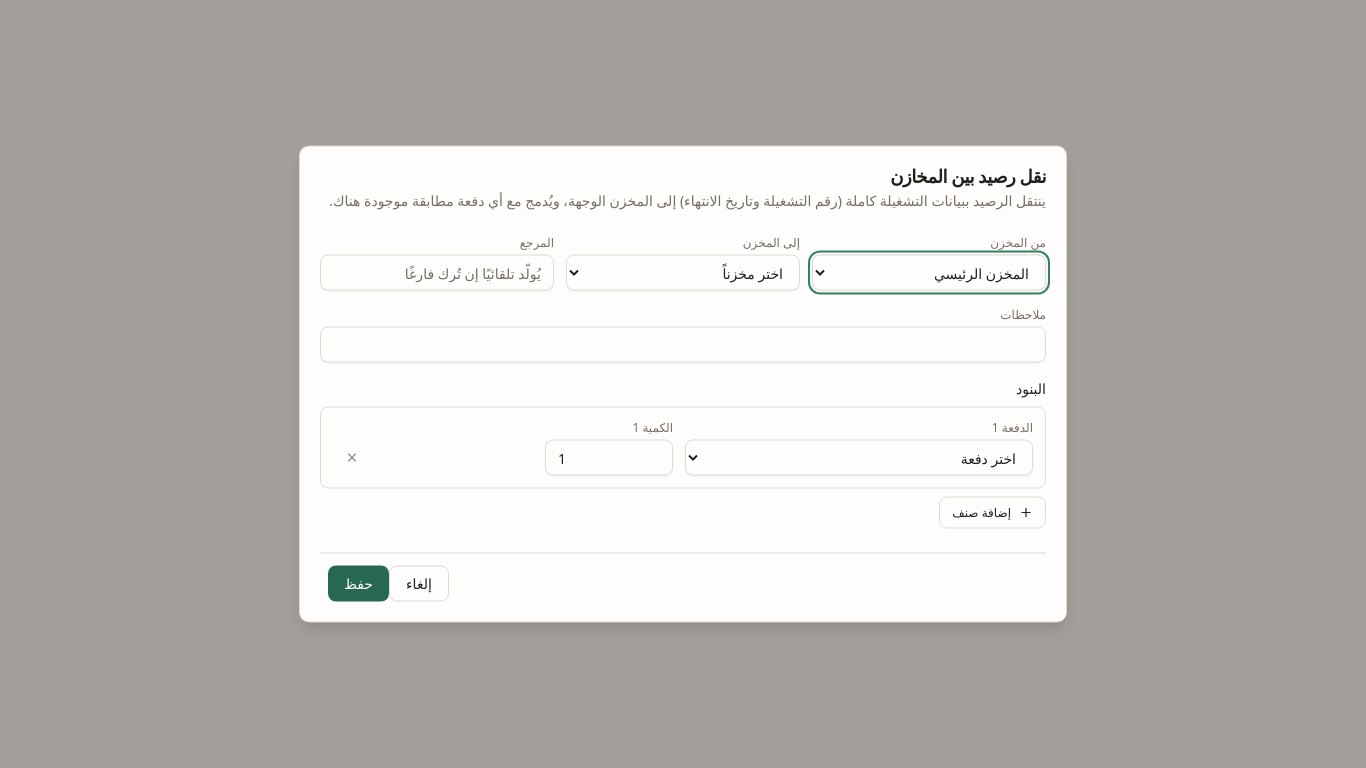
Test: TransferDialog › refuses to submit without a destination warehouse and picked batch
The width and height of the screenshot is (1366, 768).
Click the button "حفظ" at (358, 584), box [328,566,389,602]
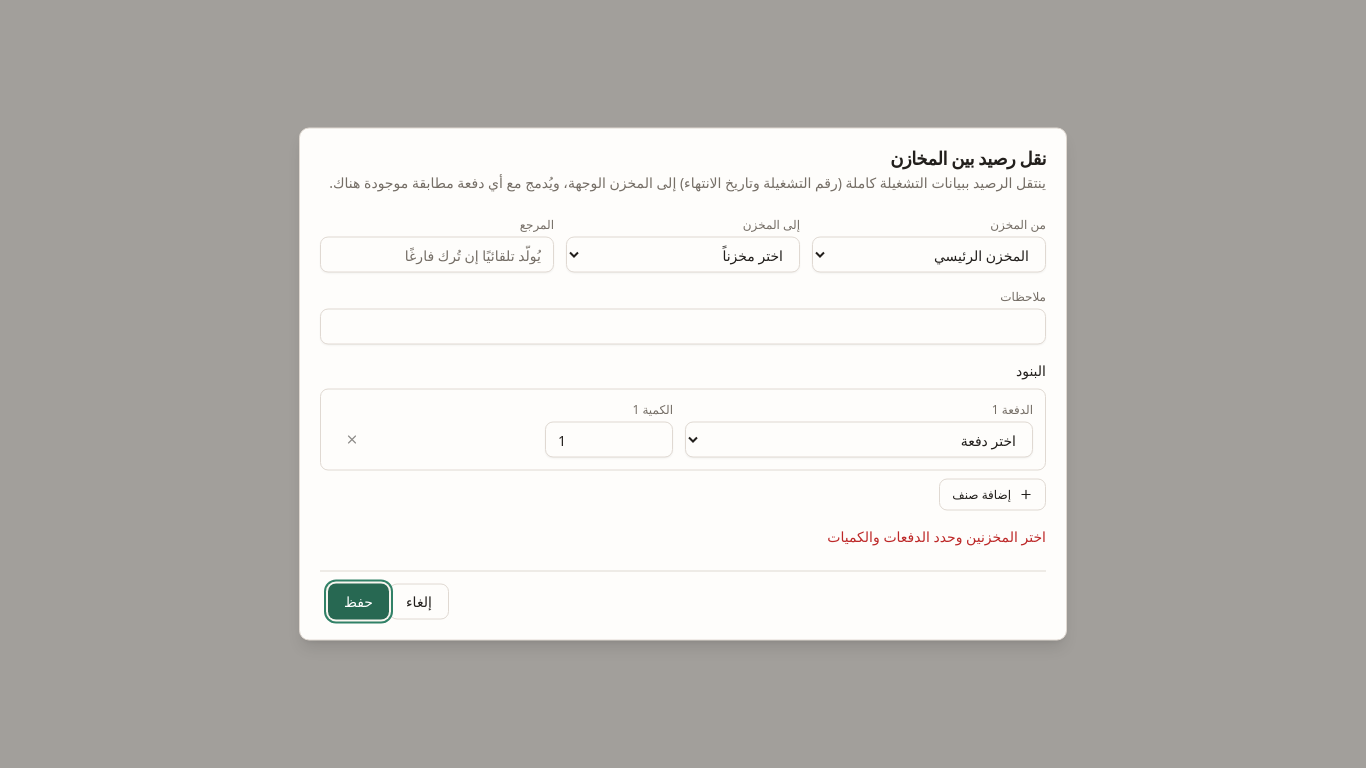
Expected: the text "اختر المخزنين وحدد الدفعات والكميات" is shown, [827,526,1046,546]
